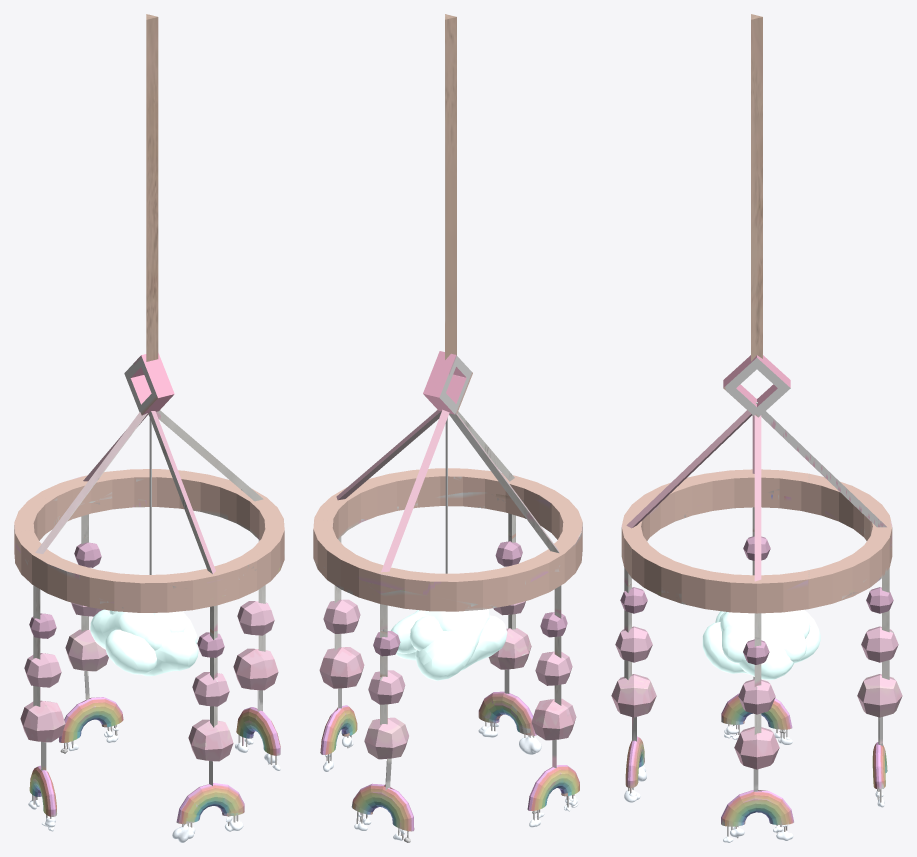
The model's file is chan(die)lier _FINAL VERSION FR.glb.
3 views of the same model, side by side, from view 1: azimuth 30°, elevation 25°; view 2: azimuth 150°, elevation 25°; view 3: azimuth 270°, elevation 25° (orthographic).
Visible parts, largest first — view 1: Cylinder.032, Mball.022, Cylinder.045, Cylinder.026, Cylinder.031, Cylinder.030, Cylinder.059, Cylinder.015, Cylinder.039, Cylinder.035, Cylinder.029, Cylinder.043 (+9 smaller); view 2: Cylinder.032, Mball.022, Cylinder.026, Cylinder.045, Cylinder.031, Cylinder.030, Cylinder.015, Cylinder.039, Cylinder.035, Cylinder.059, Cylinder.043, Cylinder.012 (+9 smaller); view 3: Cylinder.032, Mball.022, Cylinder.045, Cylinder.026, Cylinder.031, Cylinder.010, Cylinder.030, Cylinder.029, Cylinder.043, Cylinder.039, Cylinder.012, Cylinder.006 (+5 smaller).
Boxes of the visible parts, x1=… form: Cylinder.032: x1=14, y1=469, x2=284, y2=612; Mball.022: x1=90, y1=609, x2=198, y2=676; Cylinder.045: x1=146, y1=14, x2=158, y2=361; Cylinder.026: x1=35, y1=410, x2=263, y2=573; Cylinder.031: x1=124, y1=353, x2=174, y2=415; Cylinder.030: x1=33, y1=514, x2=265, y2=727; Cylinder.059: x1=176, y1=783, x2=244, y2=823; Cylinder.015: x1=59, y1=697, x2=123, y2=742; Cylinder.039: x1=233, y1=648, x2=278, y2=690; Cylinder.035: x1=20, y1=700, x2=65, y2=742; Cylinder.029: x1=188, y1=719, x2=233, y2=761; Cylinder.043: x1=65, y1=629, x2=108, y2=671; Cylinder.032: x1=313, y1=468, x2=582, y2=611; Mball.022: x1=391, y1=609, x2=507, y2=680; Cylinder.026: x1=336, y1=409, x2=559, y2=572; Cylinder.045: x1=445, y1=14, x2=456, y2=359; Cylinder.031: x1=423, y1=351, x2=472, y2=414; Cylinder.030: x1=334, y1=513, x2=561, y2=724; Cylinder.015: x1=351, y1=783, x2=414, y2=831; Cylinder.039: x1=319, y1=647, x2=364, y2=688; Cylinder.035: x1=531, y1=698, x2=576, y2=740; Cylinder.059: x1=478, y1=691, x2=536, y2=735; Cylinder.043: x1=364, y1=717, x2=408, y2=759; Cylinder.012: x1=527, y1=765, x2=579, y2=810; Cylinder.032: x1=621, y1=469, x2=892, y2=613; Mball.022: x1=702, y1=610, x2=820, y2=680; Cylinder.045: x1=751, y1=14, x2=762, y2=361; Cylinder.026: x1=626, y1=410, x2=886, y2=581; Cylinder.031: x1=723, y1=355, x2=790, y2=417; Cylinder.010: x1=721, y1=790, x2=793, y2=826; Cylinder.030: x1=624, y1=507, x2=889, y2=734; Cylinder.029: x1=611, y1=674, x2=656, y2=717; Cylinder.043: x1=857, y1=674, x2=902, y2=717; Cylinder.039: x1=734, y1=726, x2=779, y2=769; Cylinder.012: x1=721, y1=693, x2=792, y2=729; Cylinder.006: x1=615, y1=626, x2=652, y2=662.
Bounding box in the file's own units: 0.6455 × 1.9 × 0.6455.
5 materials, 3 textured.
